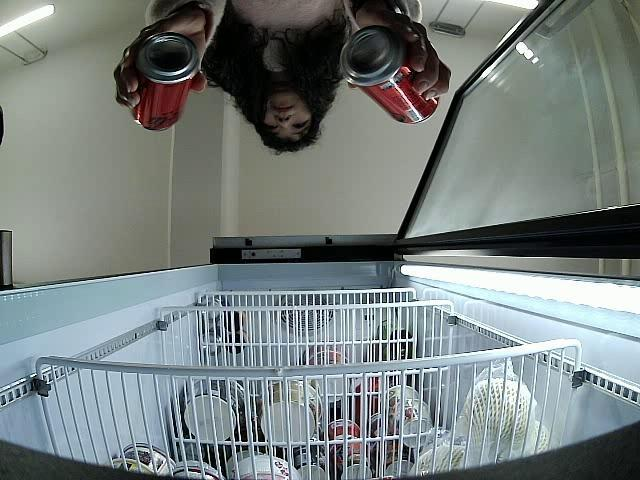11_cocaColaZero: (340, 26, 440, 124), (132, 34, 198, 132)
